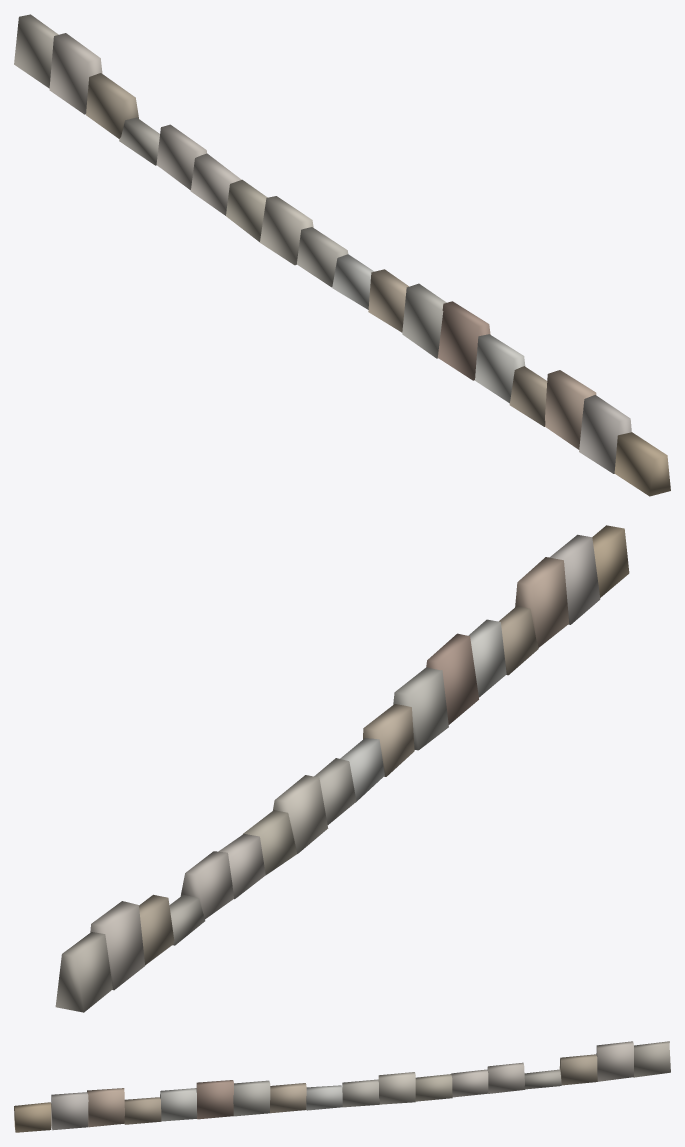
The model's file is farm_14_25_far.glb.
3 views of the same model, one above another, from view 1: azimuth 30°, elevation 25°; view 2: azimuth 150°, elevation 25°; view 3: azimuth 270°, elevation 25° (orthographic). The views are drawn at different scales.
Parts seen in each view (by area): view 1: geometry_0; view 2: geometry_0; view 3: geometry_0.
Boxes of the visible parts, x1=… form: geometry_0: x1=14, y1=14, x2=670, y2=496; geometry_0: x1=55, y1=525, x2=629, y2=1012; geometry_0: x1=14, y1=1041, x2=670, y2=1132.
Bounding box in the file's own units: 3.4 × 2.97 × 28.7.
